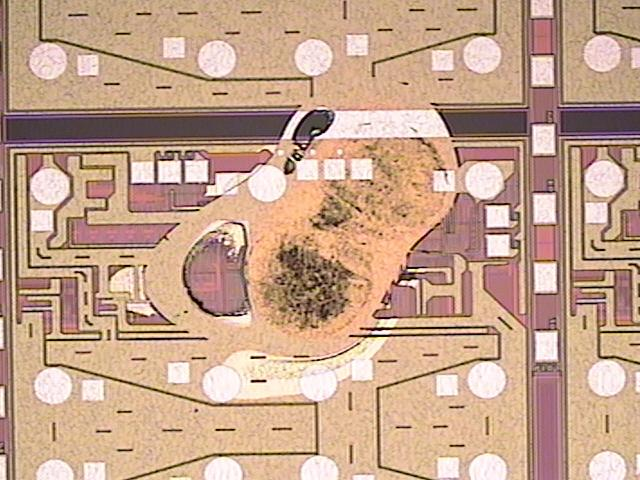BLOCK ETCH: (143, 73, 461, 398)
